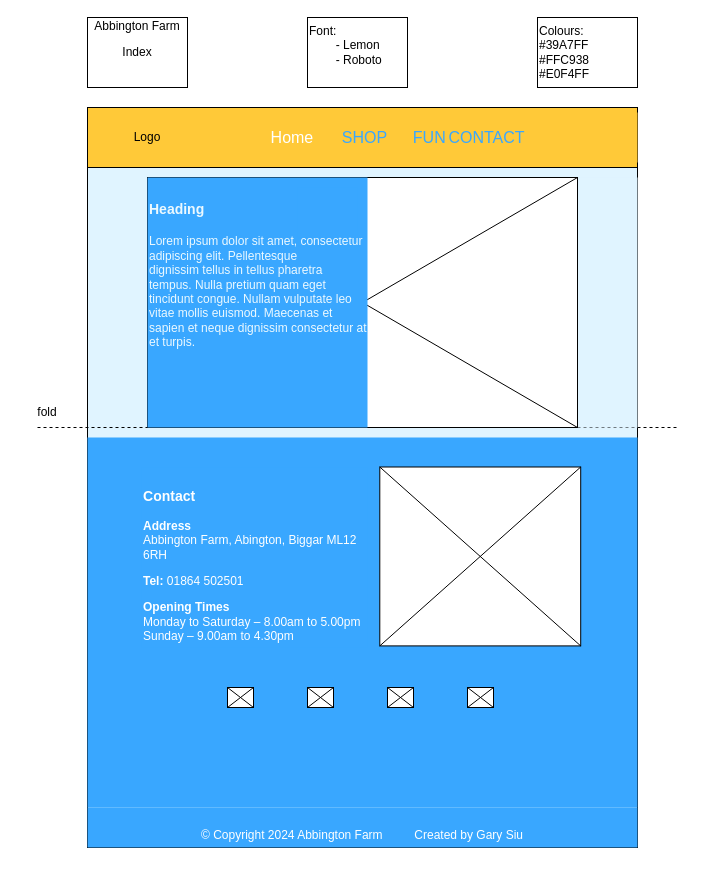
Image size: 724x871. Some labels were removed from this diagram. The shapes that lost their labels are listed below. From the top down, each one's centre as x and y in pixels, then its label:
At pixel 607 137: "#FFC938".
At pixel 327 212: "#39A7FF".
At pixel 607 302: "#E0F4FF".
